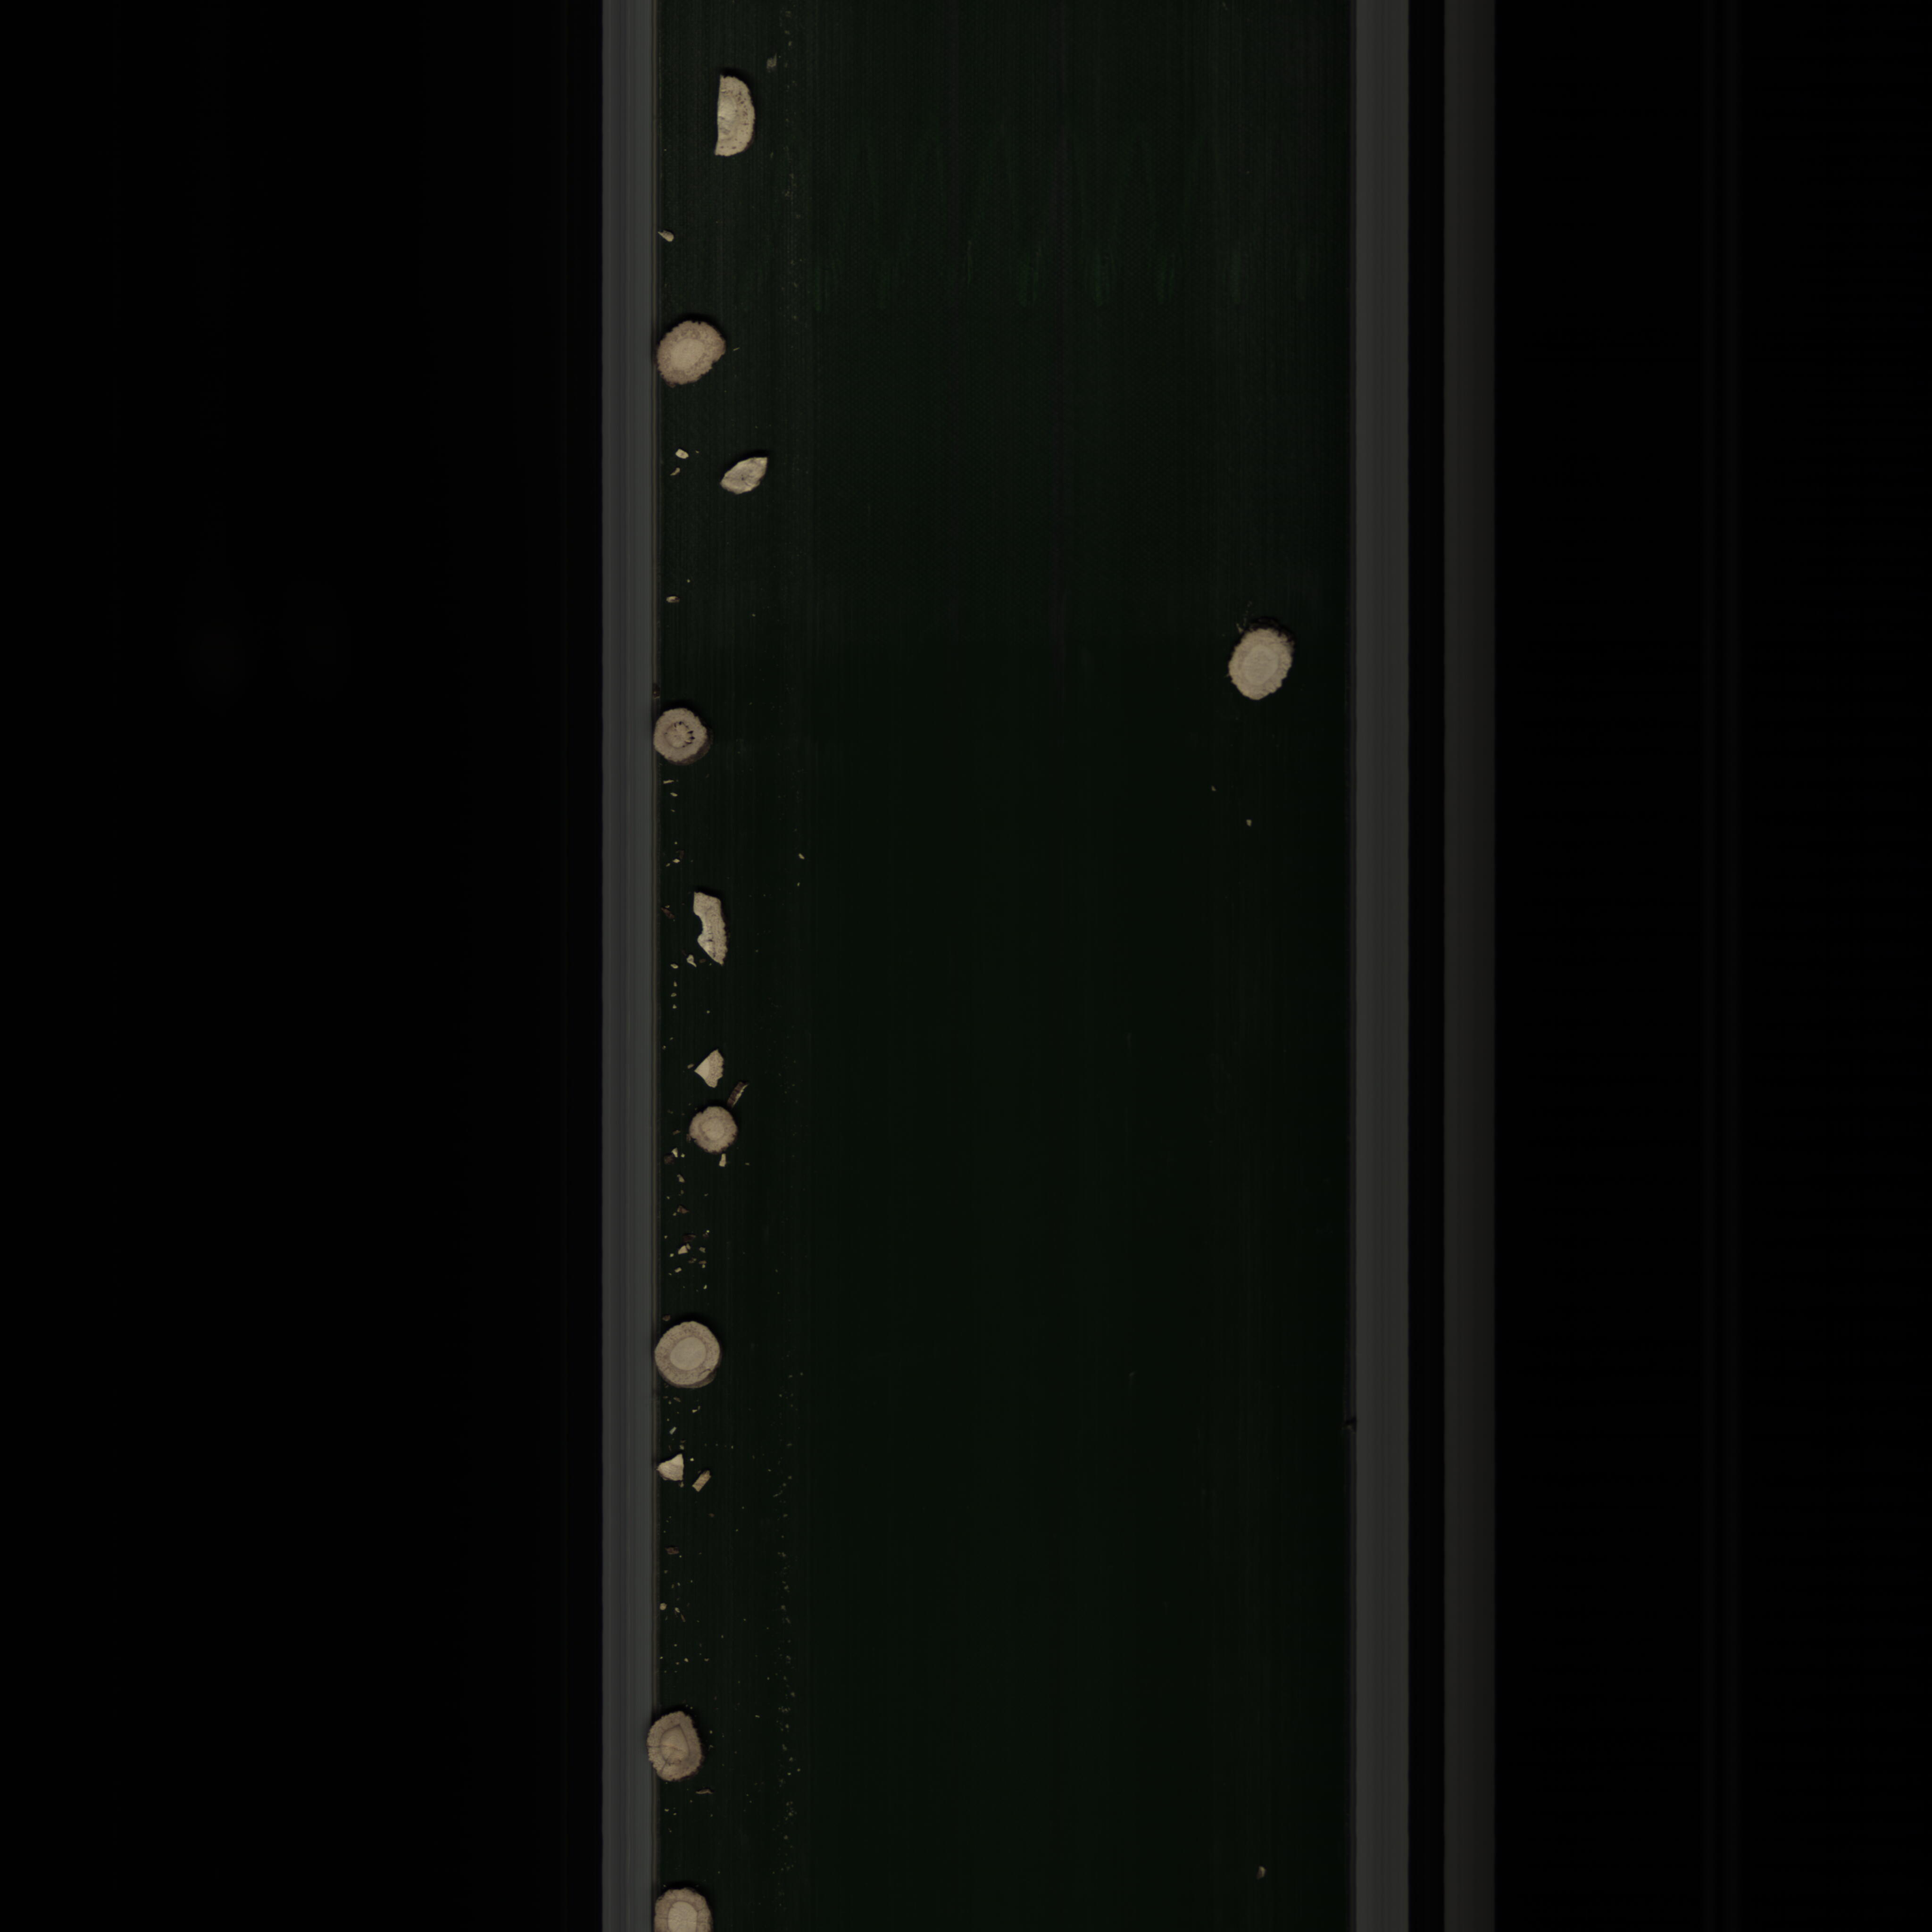debris: (702, 71, 770, 173), (679, 883, 740, 970), (722, 449, 778, 501), (658, 1440, 688, 1488), (692, 1046, 724, 1088)
hole: (651, 706, 711, 768)
moldy: (644, 1707, 718, 1789)
